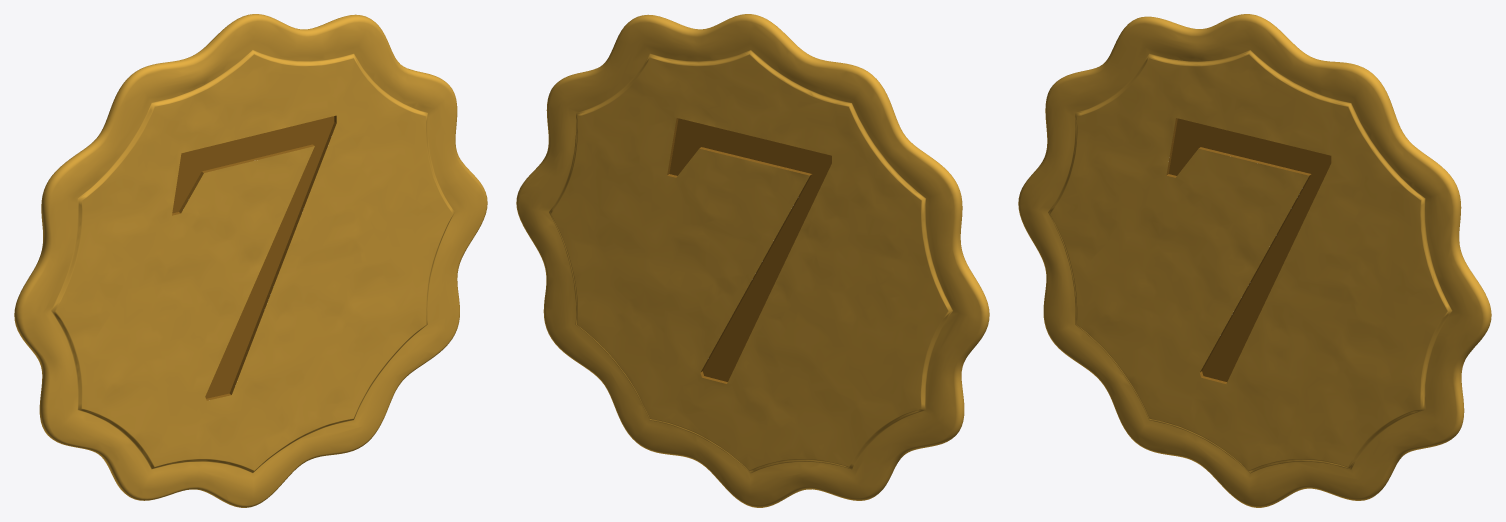
The model's file is badge-7.glb.
3 renders of one model, left to right at view 1: azimuth 30°, elevation 25°; view 2: azimuth 150°, elevation 25°; view 3: azimuth 330°, elevation 25°, orthographic.
Visible parts, largest first — view 1: badge_body, digit_7_front; view 2: badge_body, digit_7_front; view 3: badge_body, digit_7_front.
Boxes of the visible parts, bbox=[...] form: badge_body: bbox=[14, 14, 487, 507]; digit_7_front: bbox=[172, 115, 336, 400]; badge_body: bbox=[516, 14, 989, 507]; digit_7_front: bbox=[667, 118, 831, 383]; badge_body: bbox=[1018, 14, 1491, 507]; digit_7_front: bbox=[1166, 118, 1331, 383].
Bounding box in the file's own units: 0.2585 × 0.2575 × 0.00991.
